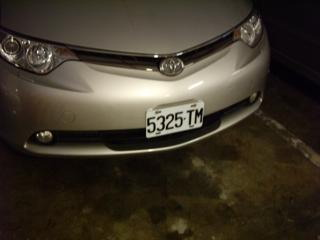plate: (144, 102, 205, 138)
